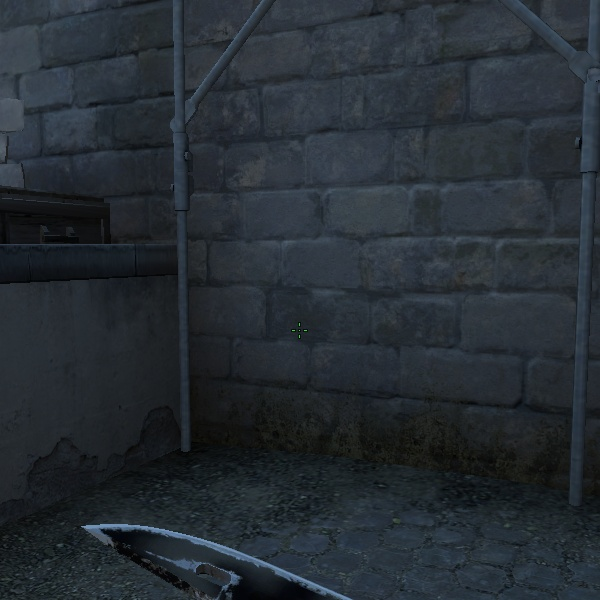ct_body: (0, 10, 600, 358)
